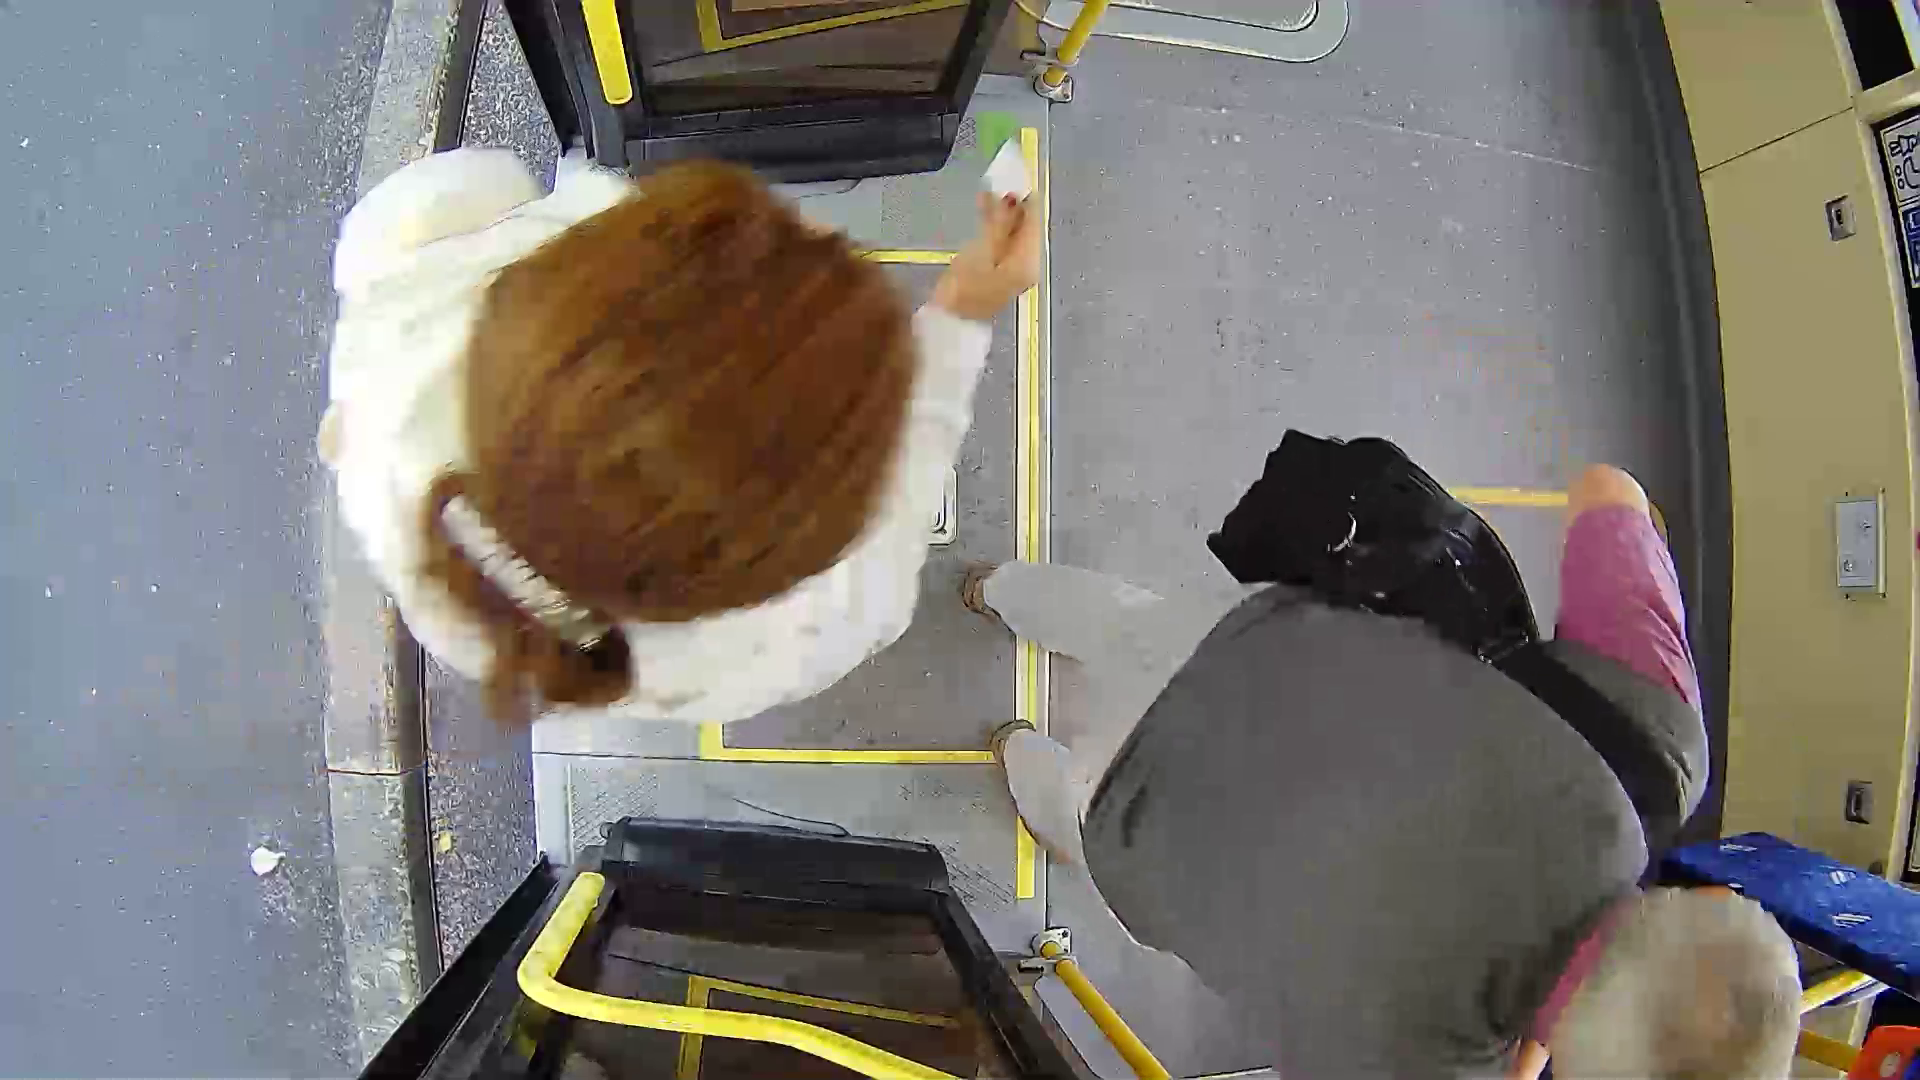person: (1084, 435, 1825, 1080), (327, 146, 992, 711)
